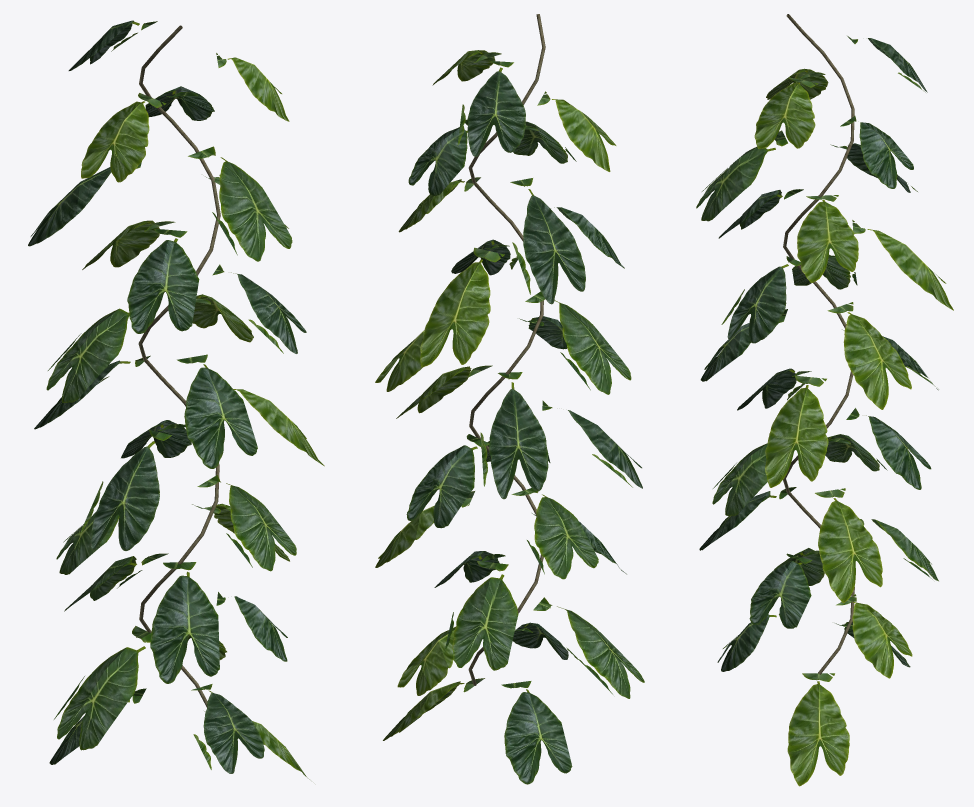
File: climber_01.glb
3 renders of one model, left to right at view 1: azimuth 30°, elevation 25°; view 2: azimuth 150°, elevation 25°; view 3: azimuth 270°, elevation 25°, orthographic. The views are drawn at different scales.
Parts seen in each view (by area): view 1: climber_01; view 2: climber_01; view 3: climber_01.
Part boxes in pixels (x1,y1,x2,y2): climber_01: (28, 20, 324, 779); climber_01: (375, 14, 644, 784); climber_01: (696, 14, 953, 786).
Bounding box in the file's own units: 2 × 5.61 × 1.96.
Materials: 2 (2 with a texture image).
